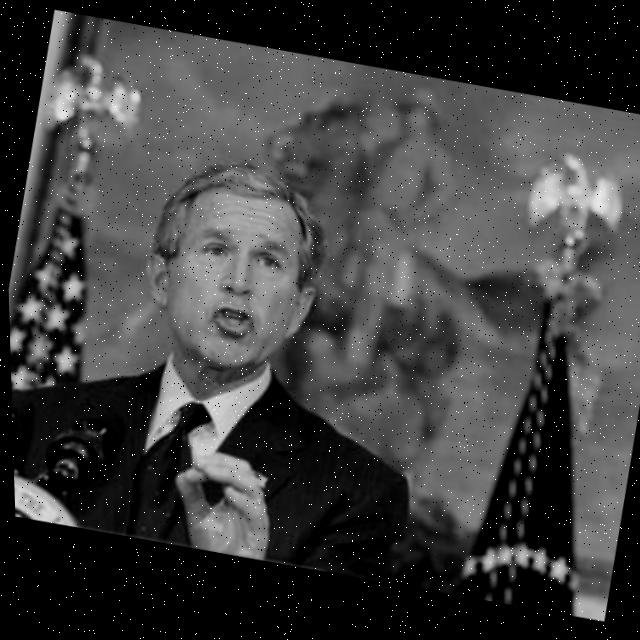face: (144, 166, 340, 395)
